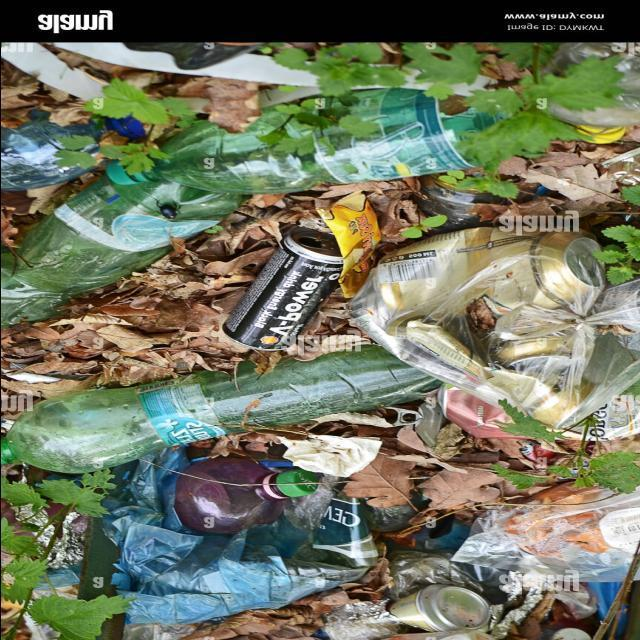Plastic_Bag: (349, 221, 640, 426), (102, 446, 375, 624), (451, 482, 640, 581), (321, 550, 482, 640)
Plastic_bottle: (0, 344, 439, 471), (106, 88, 502, 192), (0, 176, 247, 325), (173, 456, 317, 532), (0, 110, 100, 190)
can: (225, 226, 341, 349), (387, 584, 490, 631)
